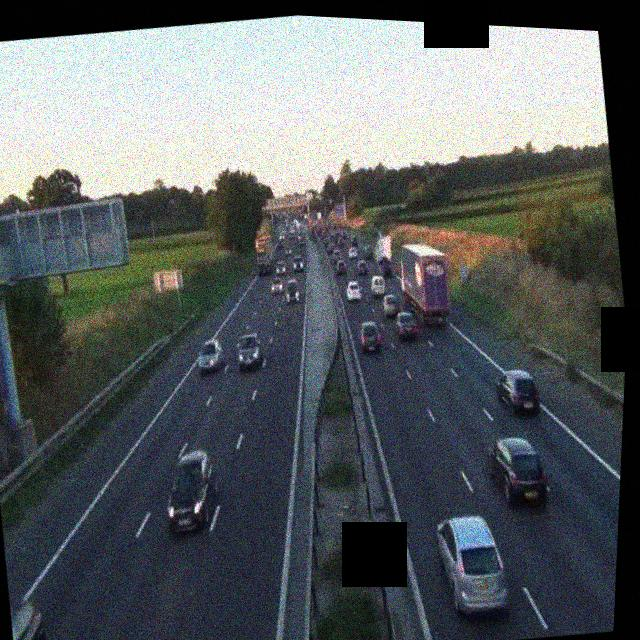car: (431, 509, 514, 621), (159, 445, 224, 537), (484, 432, 552, 513), (495, 366, 543, 420), (8, 599, 54, 640), (235, 331, 265, 371), (195, 337, 227, 374), (392, 304, 421, 342), (357, 319, 382, 355), (381, 292, 401, 318), (345, 279, 364, 302), (285, 280, 302, 305), (270, 275, 284, 294), (354, 255, 368, 271), (293, 256, 305, 274), (336, 258, 348, 276), (274, 260, 286, 276)
truck: (394, 239, 457, 328), (254, 229, 278, 274), (372, 234, 397, 277)
